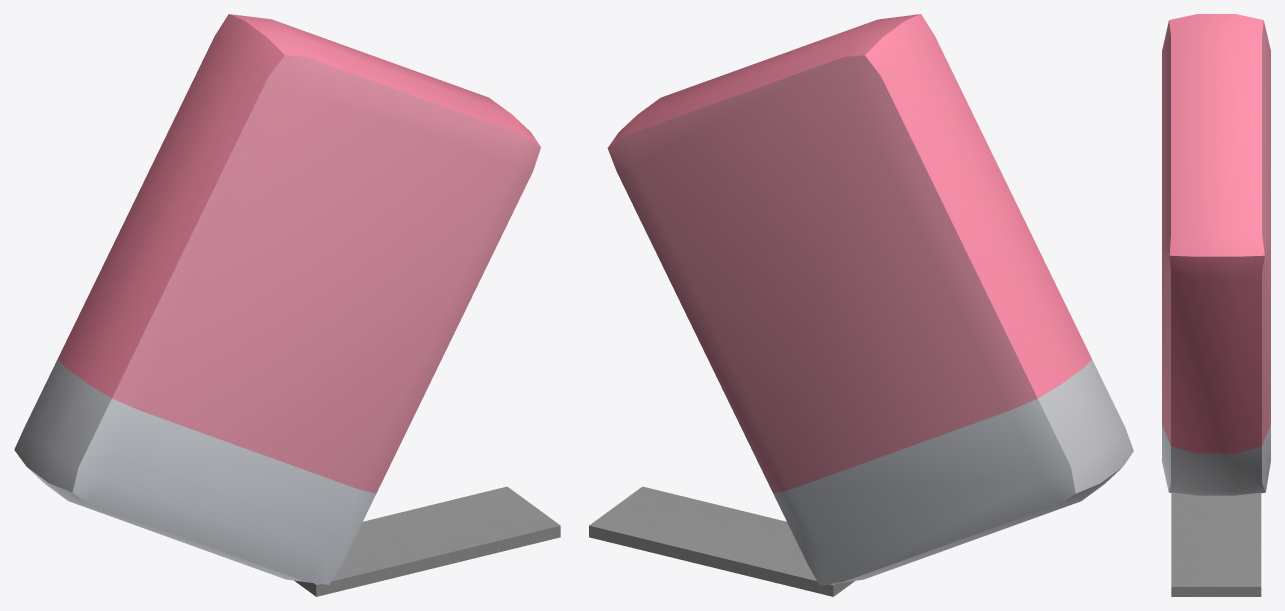
File: DM_Eraser01.fbx
The picture shows the model from 3 angles, left to right: view 1: azimuth 30°, elevation 25°; view 2: azimuth 150°, elevation 25°; view 3: azimuth 270°, elevation 25°; orthographic projection. The views are drawn at different scales.
Visible parts, largest first — view 1: SM_Eraser01; view 2: SM_Eraser01; view 3: SM_Eraser01.
Part boxes in pixels (x1,y1,x2,y2): SM_Eraser01: (14,14,560,596); SM_Eraser01: (589,14,1133,596); SM_Eraser01: (1162,14,1270,596).
Bounding box in the file's own units: 26.56 × 28.51 × 6.
